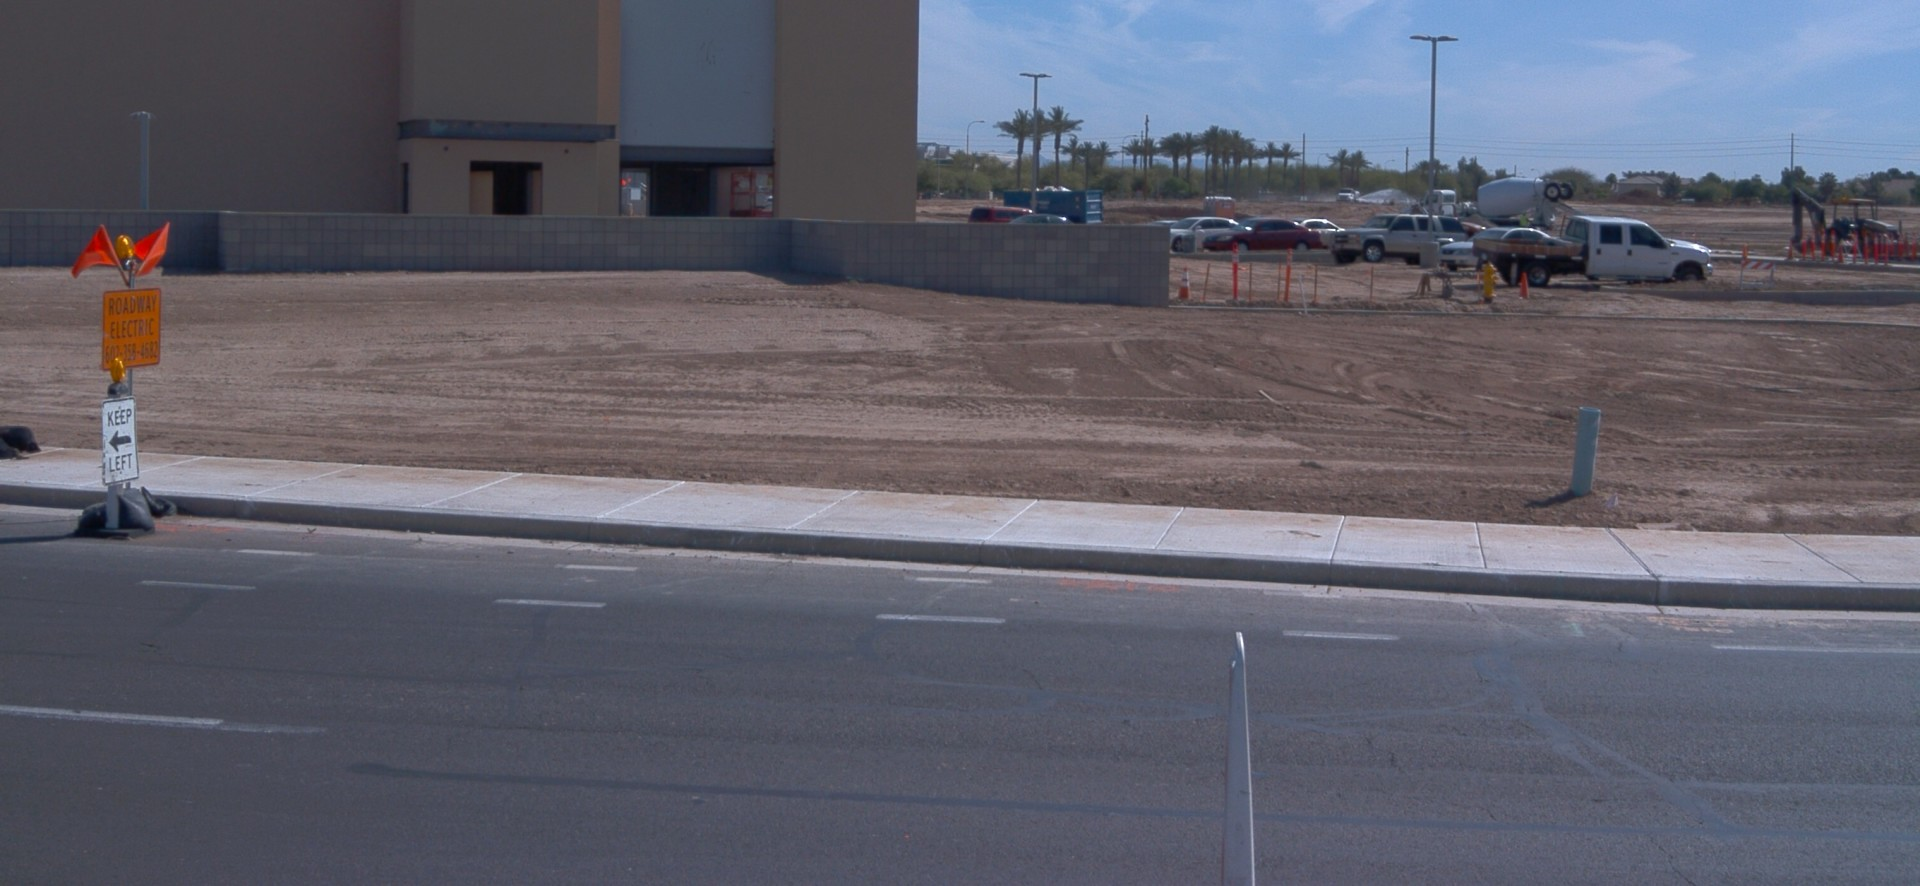TYPE_PEDESTRIAN: (1516, 209, 1529, 231)
TYPE_VEHICLE: (1470, 216, 1713, 288), (1787, 181, 1918, 262), (1412, 171, 1585, 230), (1328, 214, 1465, 265), (1437, 225, 1549, 271), (1197, 216, 1327, 255), (1415, 198, 1483, 238), (1171, 214, 1238, 254), (1290, 217, 1346, 249), (967, 206, 1034, 224), (1008, 215, 1074, 226), (1338, 187, 1360, 202), (1151, 219, 1179, 224)
